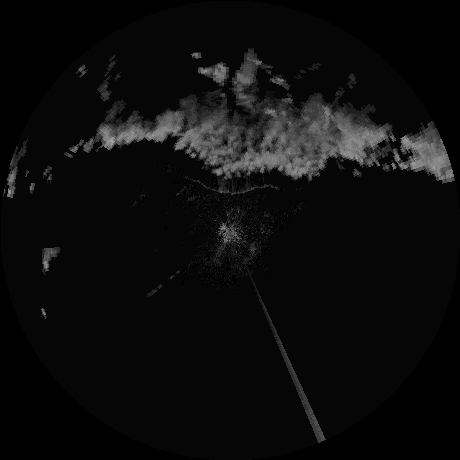frontgust: (181, 165, 280, 195)
